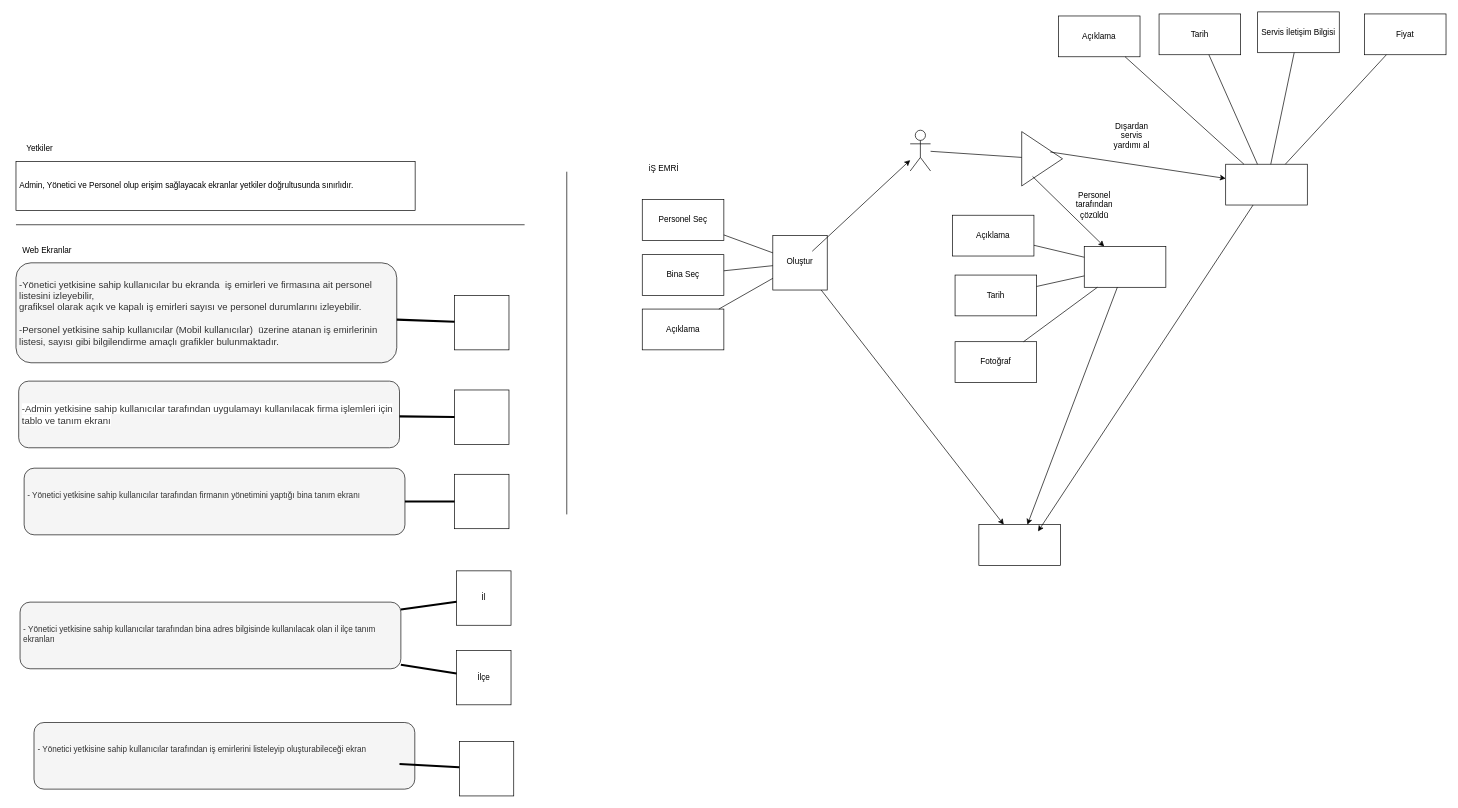
The diagram is 1458 pixels wide and 808 high, and some of its shapes have lost their labels. The shapes that lost their labels are listed below. From the top down, each one's box as (x1, y1, x2, y2) in pixels, then its label:
(910, 130, 931, 171): Personel
(1225, 164, 1307, 205): İşi Yönlendir
(1084, 246, 1166, 287): İşi Tamamla
(454, 295, 509, 350): Ana Sayfa
(454, 389, 509, 444): Firma
(454, 474, 509, 529): Bina
(978, 524, 1060, 565): İş emirleri tablosu
(459, 741, 514, 796): İş emri
